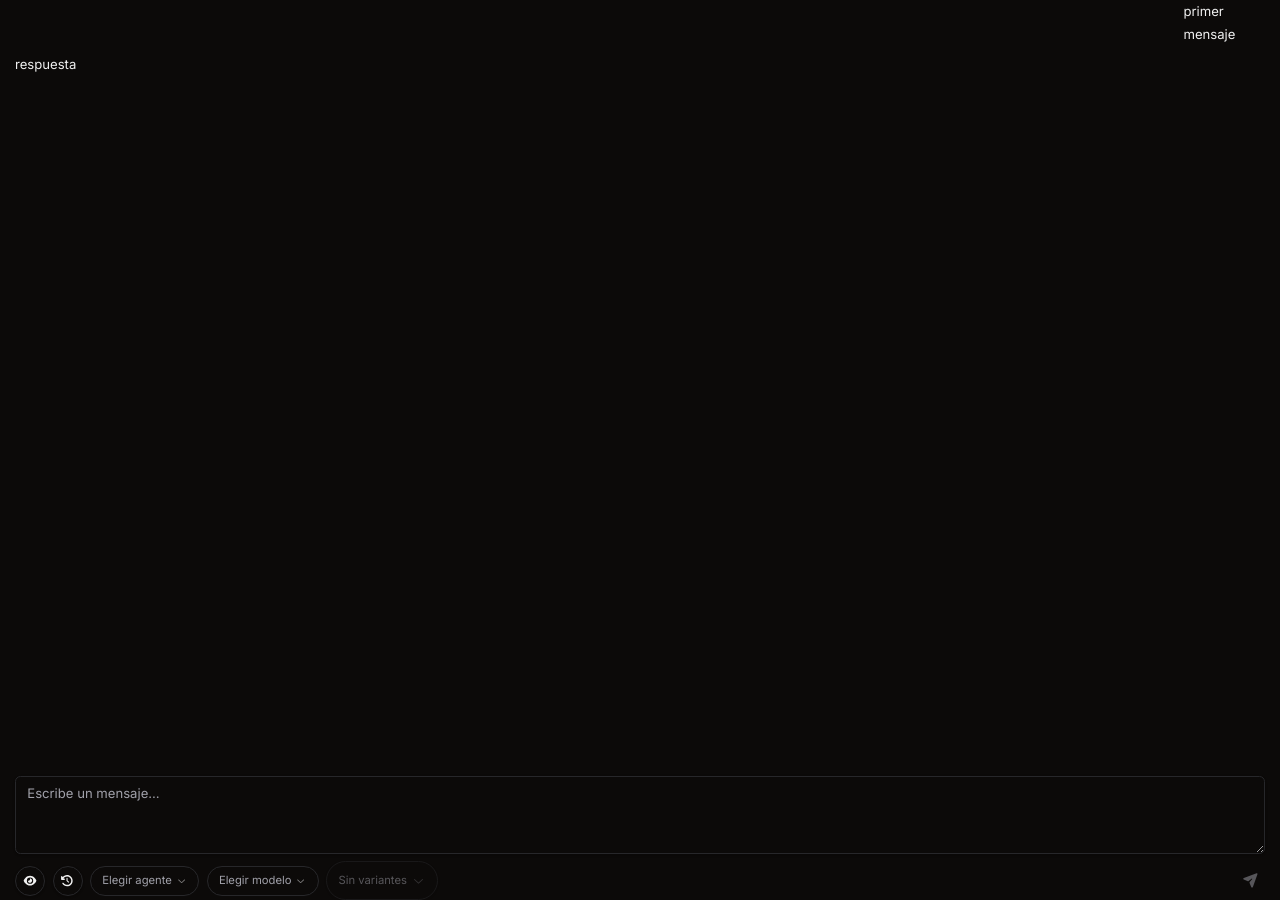
Test case: ChatPanel — historial en modal (U2) › salta al mensaje elegido, lo resalta y cierra el modal
Click the button named "Historial de mensajes" at coordinates (68, 880), box [52, 866, 82, 896]
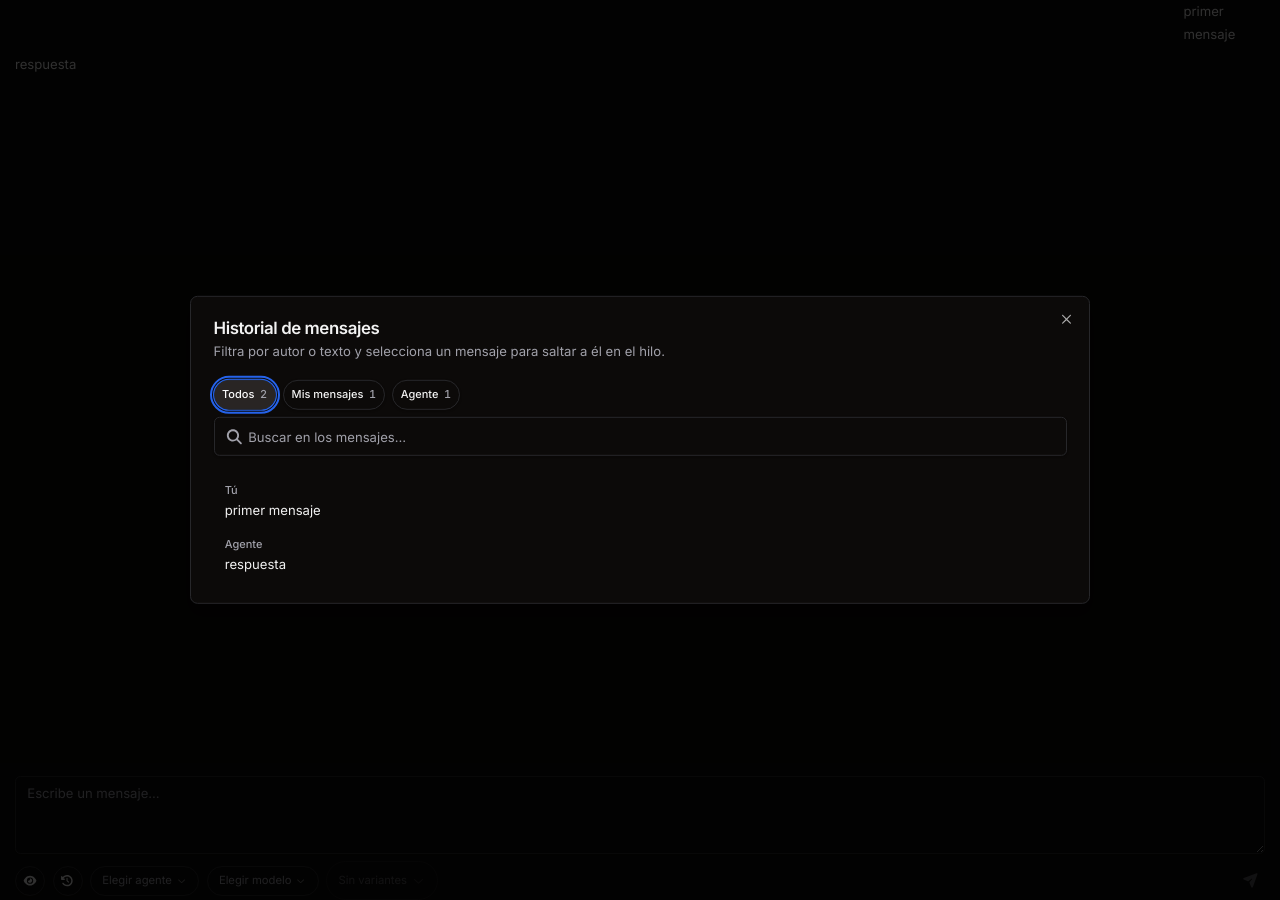
Click the button "Tú primer mensaje" at coordinates (273, 509), box [214, 475, 1063, 527]
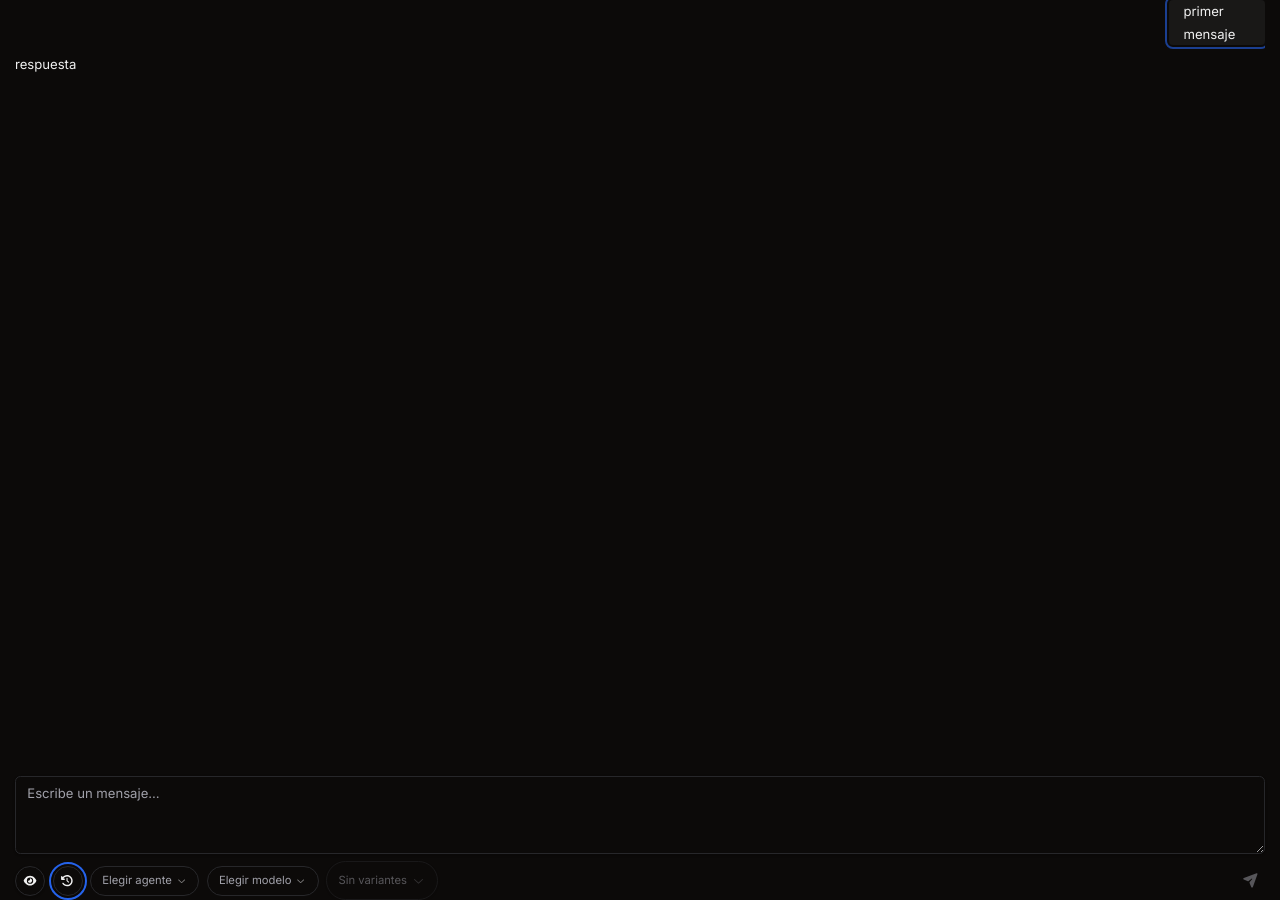
Expected: the dialog is gone
